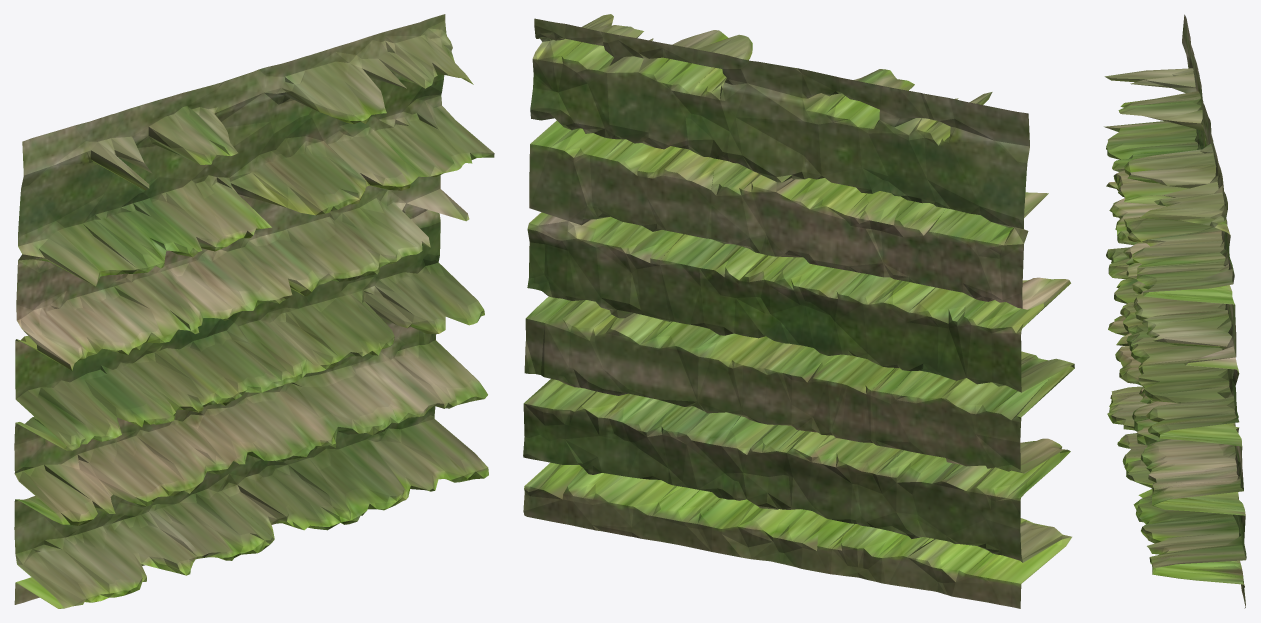
Rendered from map_170_60.obj.
The picture shows the model from 3 angles, left to right: view 1: azimuth 30°, elevation 25°; view 2: azimuth 150°, elevation 25°; view 3: azimuth 270°, elevation 25°; orthographic projection. The views are drawn at different scales.
Parts seen in each view (by area): view 1: grp1; view 2: grp1; view 3: grp1.
Boxes of the visible parts, x1,y1,x2,y2 form: grp1: (14,14,494,608); grp1: (523,14,1074,608); grp1: (1104,14,1246,608).
Bounding box in the file's own units: 10 × 10 × 3.19.
1 material, 1 textured.
